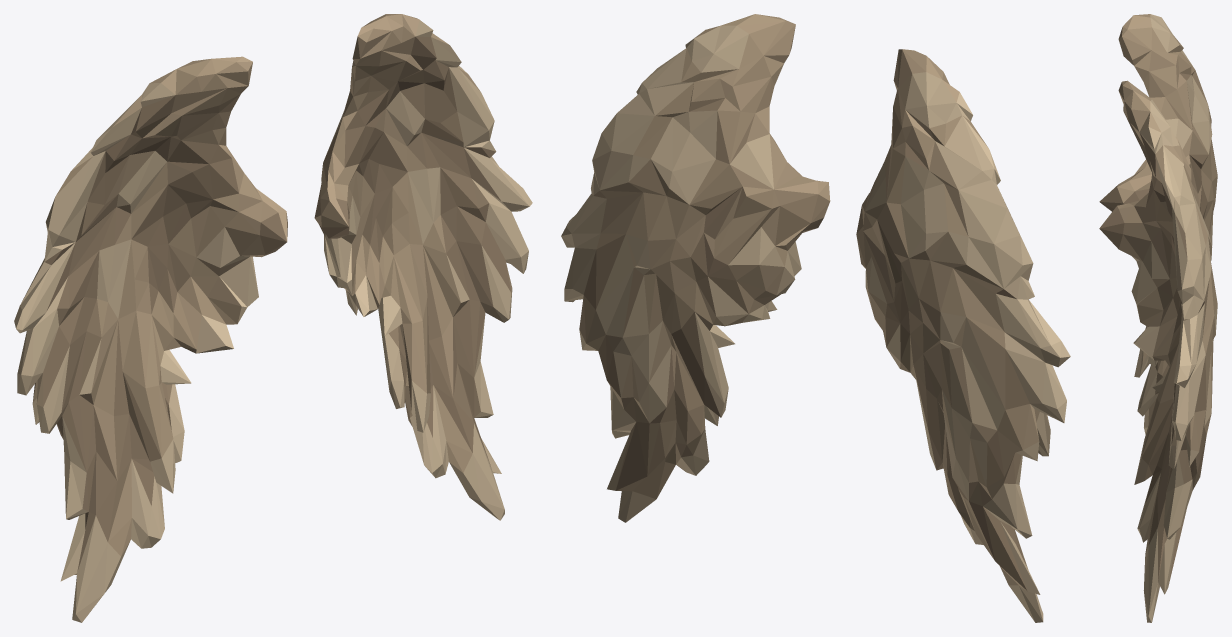
Rendered from SM_Chr_Attach_Wings_01.fbx.
3 views of the same model, side by side, from view 1: azimuth 30°, elevation 25°; view 2: azimuth 150°, elevation 25°; view 3: azimuth 270°, elevation 25° (orthographic). The views are drawn at different scales.
Parts seen in each view (by area): view 1: SM_Chr_Attach_Wings_01; view 2: SM_Chr_Attach_Wings_01; view 3: SM_Chr_Attach_Wings_01.
Part boxes in pixels (x1,y1,x2,y2): SM_Chr_Attach_Wings_01: (14,14,532,622); SM_Chr_Attach_Wings_01: (561,14,1070,622); SM_Chr_Attach_Wings_01: (1099,14,1217,622).
Size of the model in its own units: 102 by 102 by 22.79.
1 material, 1 textured.
